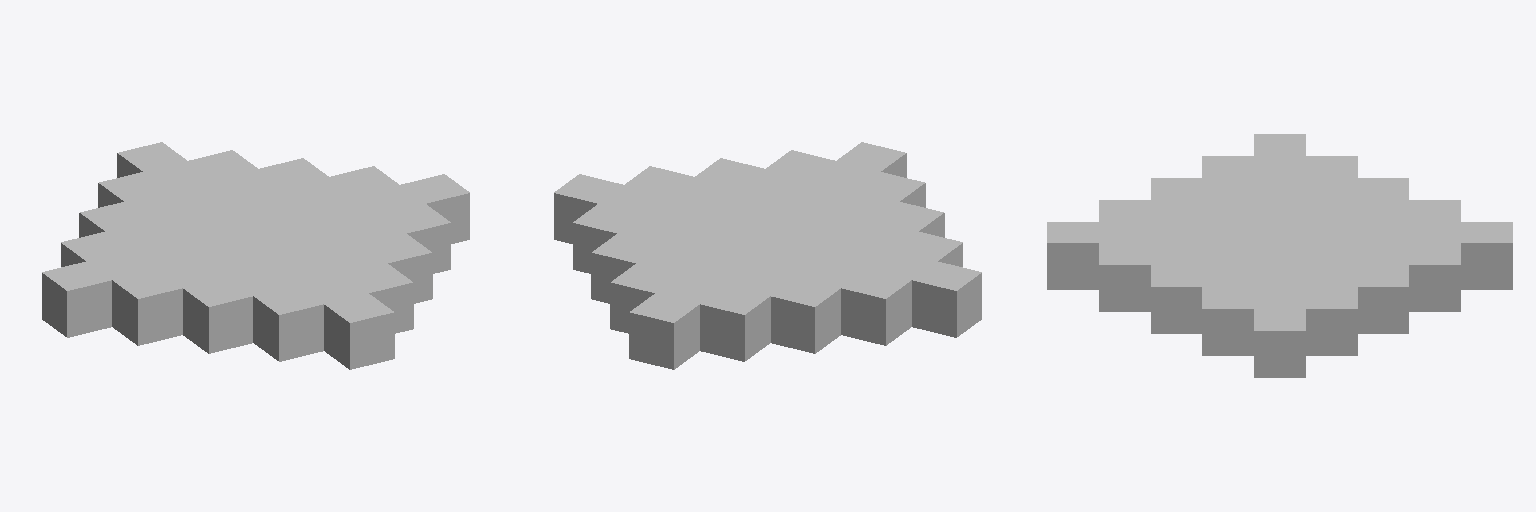
Rendered from lilypad green.obj.
The picture shows the model from 3 angles: view 1: azimuth 30°, elevation 25°; view 2: azimuth 150°, elevation 25°; view 3: azimuth 270°, elevation 25°; orthographic projection.
Parts seen in each view (by area): view 1: object 1; view 2: object 1; view 3: object 1.
Part boxes in pixels (x1,y1,x2,y2): object 1: (42,142,469,369); object 1: (554,142,981,369); object 1: (1047,134,1512,377).
Size of the model in its own units: 0.9 by 0.1 by 0.9.